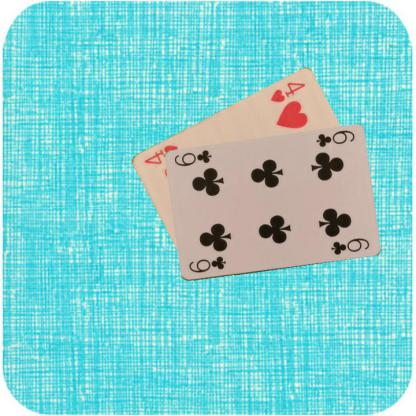4h: (267, 80, 307, 104)
6c: (313, 128, 356, 149), (186, 254, 227, 274)
